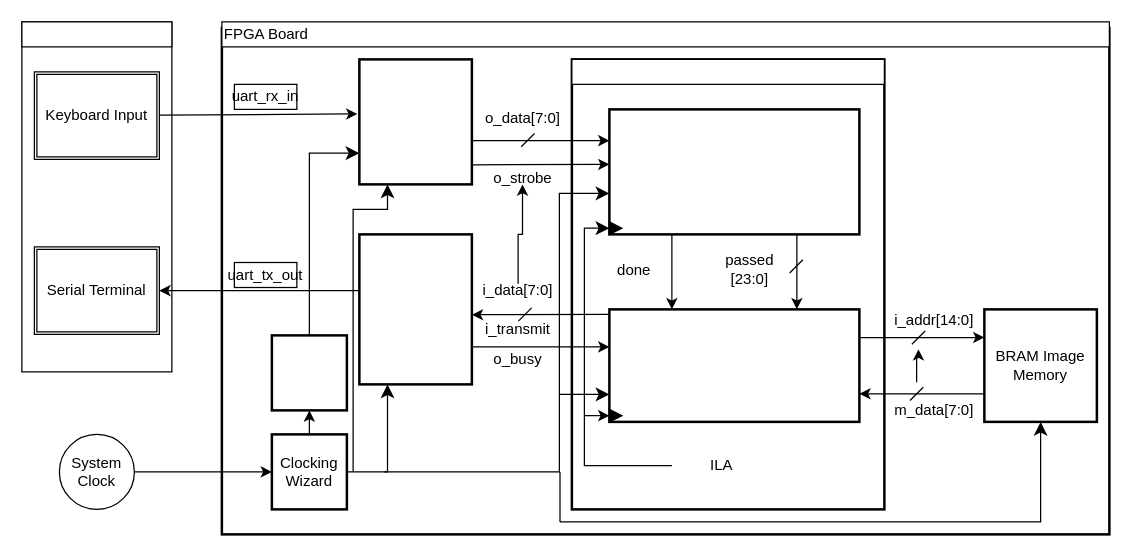
Image size: 1133x558. Some labels were removed from this diagram. The shapes that lost their labels are listed below. From the top down, each one's centre as x and y in pixels, then its label:
the point at 96,34: Host Computer
the point at 727,71: colourizer_top.sv
the point at 415,121: UART Receiver
the point at 734,171: Colourizer Command Encoder
the point at 415,308: UART Transmitter
the point at 309,372: Baud Generator
the point at 734,365: Pixel Colourizer
